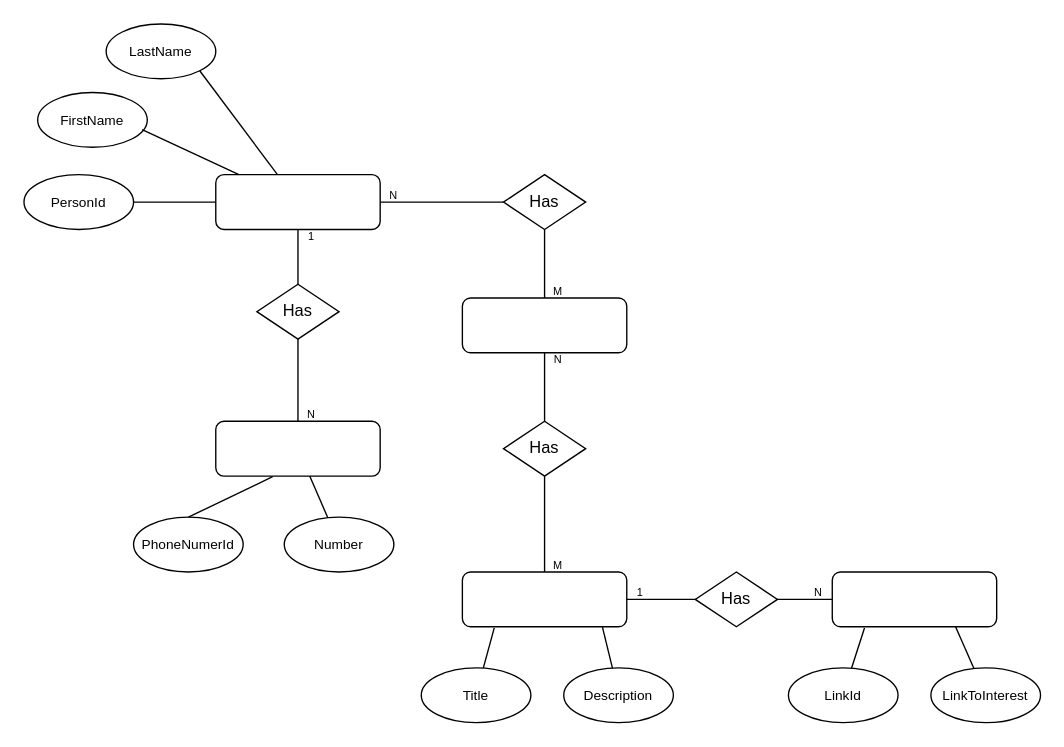
Image size: 1064x747. Some labels were removed from this diagram. The box of each missing label's shape, as (x1, y1, x2, y2) in pixels:
Interest: (461, 571, 627, 627)
Person: (214, 173, 380, 229)
PersonInterest: (461, 297, 627, 353)
PersonInterestLink: (831, 571, 997, 627)
PhoneNumber: (214, 420, 380, 476)
